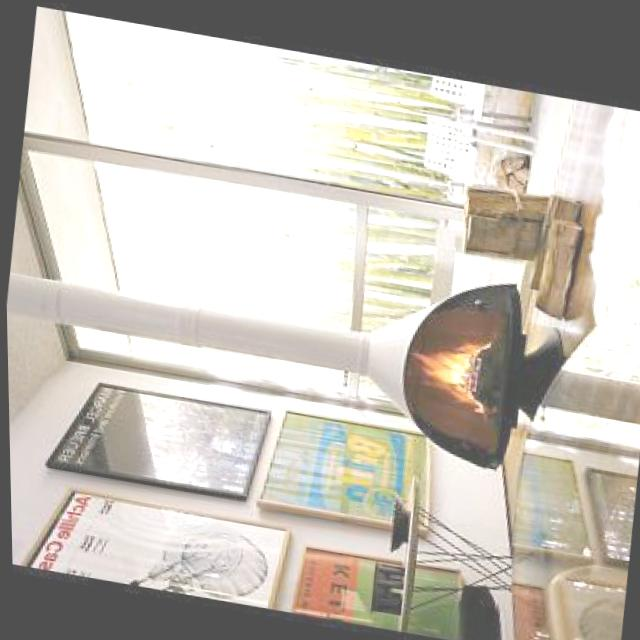helmet: (405, 325, 504, 409)
